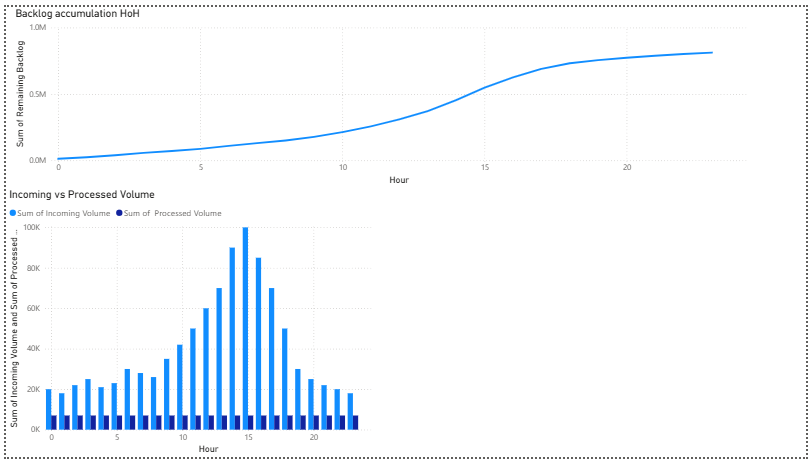

This screenshot's page, from the dashboard's own definition file:
{"tool":"powerbi","page":{"name":"Page 1","canvas":[1280,720],"ordinal":0},"visuals":[{"type":"lineChart","title":"Backlog accumulation HoH","fields":{"Category":["backlog_capacity_simulation.Hour"],"Y":["Sum(backlog_capacity_simulation.Remaining Backlog)"]},"box":[9.6,0,1180.1,289.5],"z":0},{"type":"clusteredColumnChart","title":"Incoming vs Processed Volume","fields":{"Category":["backlog_capacity_simulation.Hour"],"Y":["Sum(backlog_capacity_simulation.Incoming Volume )","Sum(backlog_capacity_simulation. Processed Volume )"]},"box":[0,290,590,430],"z":1}]}

Visuals, with their boxes in screenshot pixels (x1, y1, x2, y2), scaled from the page's 1280x720 canvas onto the 811x462 screenshot:
"Backlog accumulation HoH" lineChart: {"left": 6, "top": 0, "right": 754, "bottom": 186}
"Incoming vs Processed Volume" clusteredColumnChart: {"left": 0, "top": 186, "right": 374, "bottom": 461}
